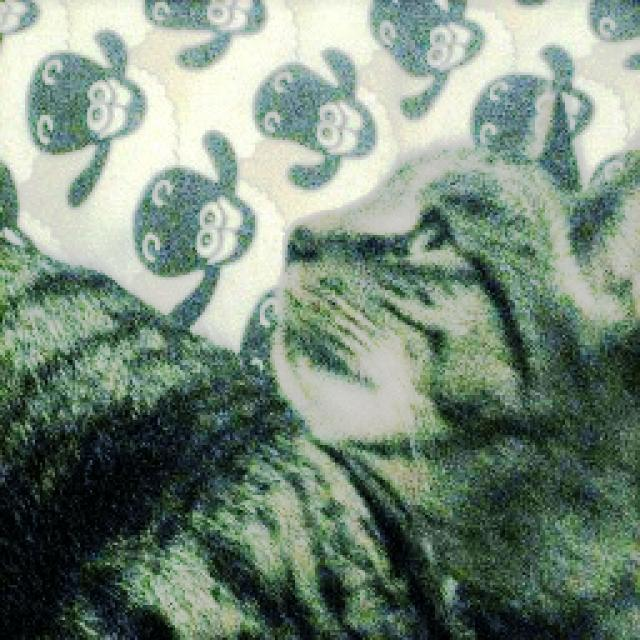cat: (0, 141, 638, 640)
